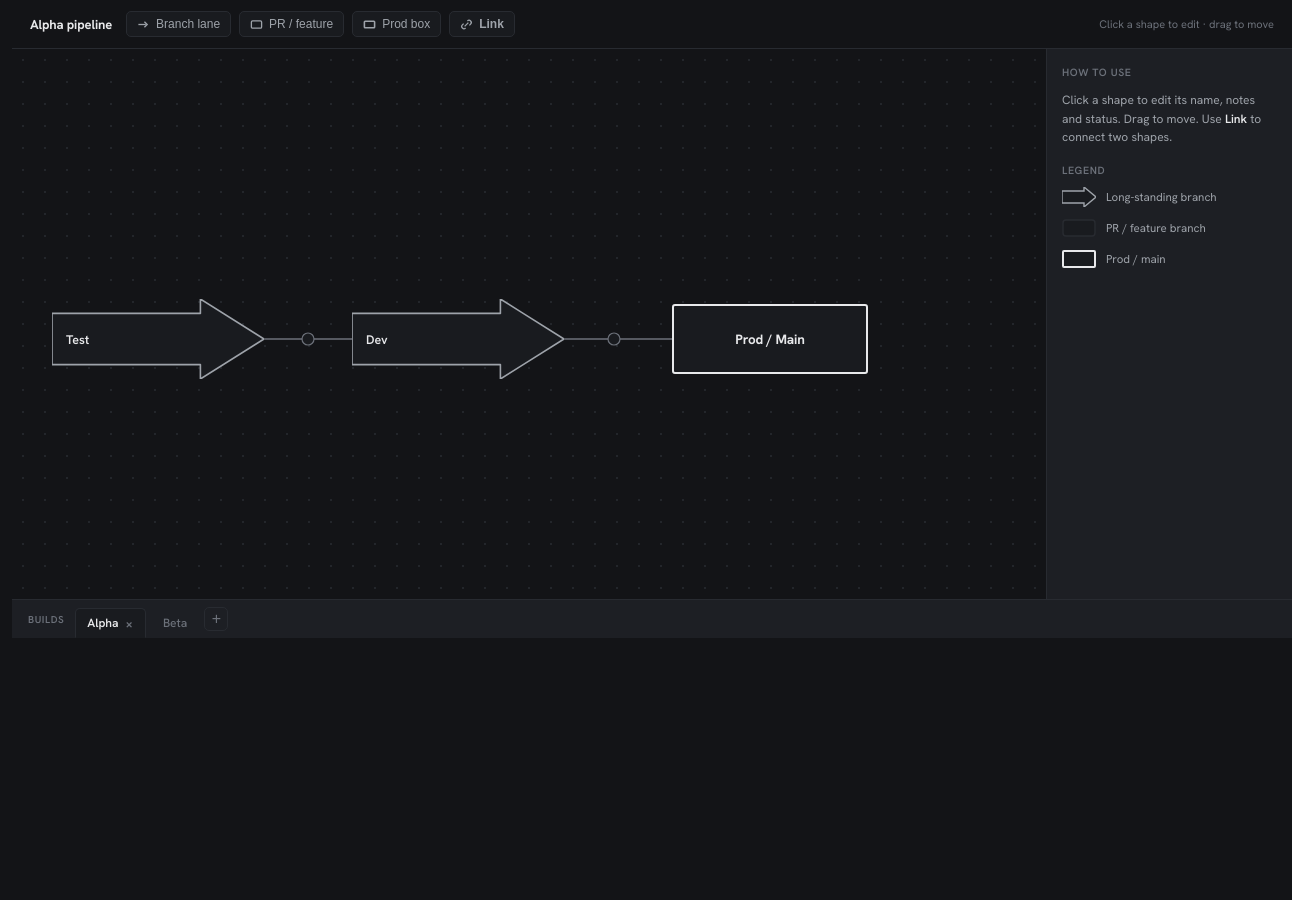
Test: FlowMap › switches builds via the bottom tabs
Click the text "Beta" at (175, 623), box [163, 615, 187, 631]
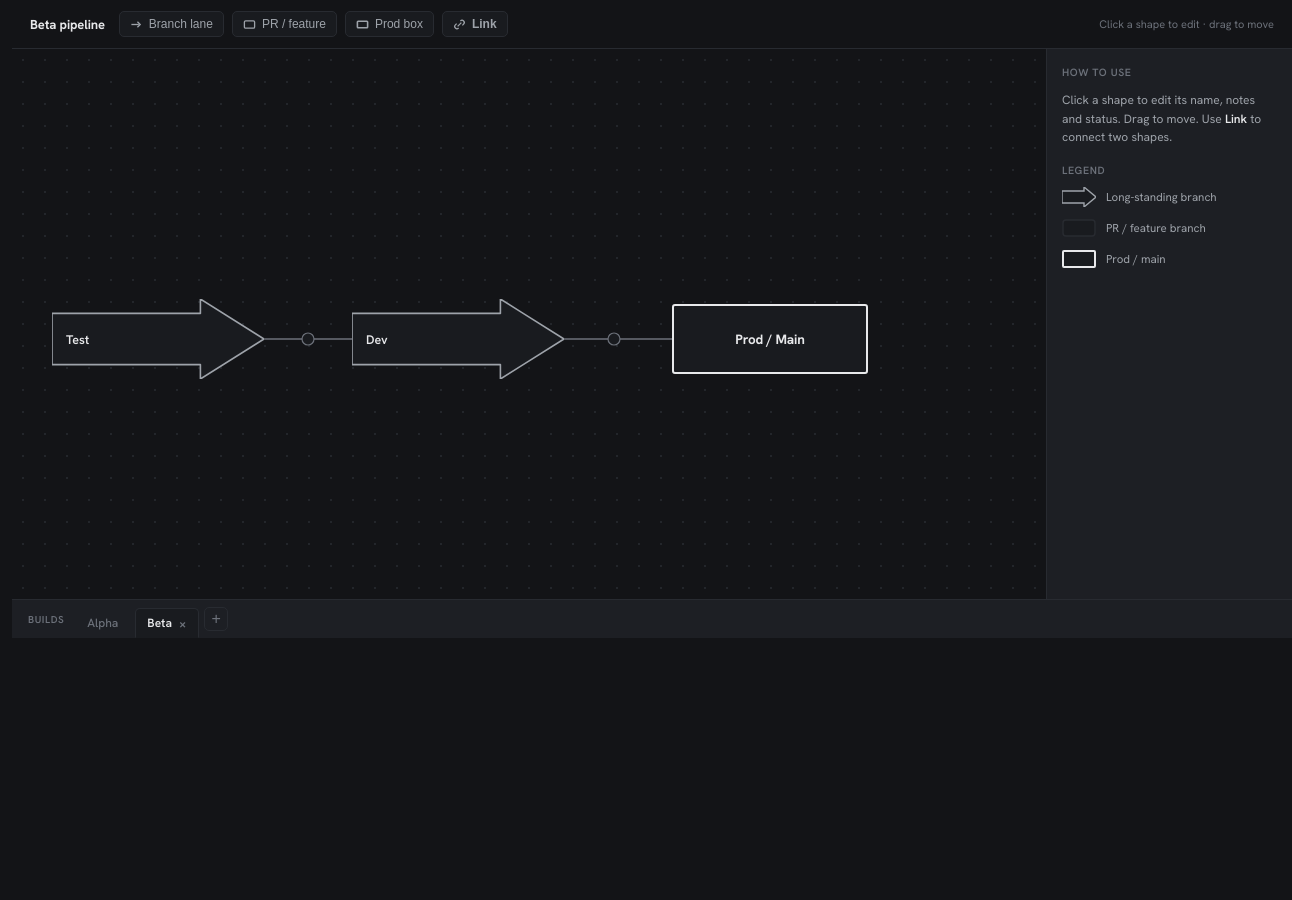
Check: the text "Beta pipeline" is shown, box [30, 16, 105, 32]
